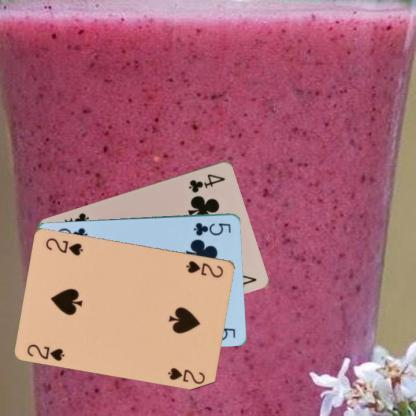2s: (183, 258, 225, 280), (24, 342, 66, 362)
4c: (186, 171, 227, 194)
5c: (191, 219, 233, 237)
